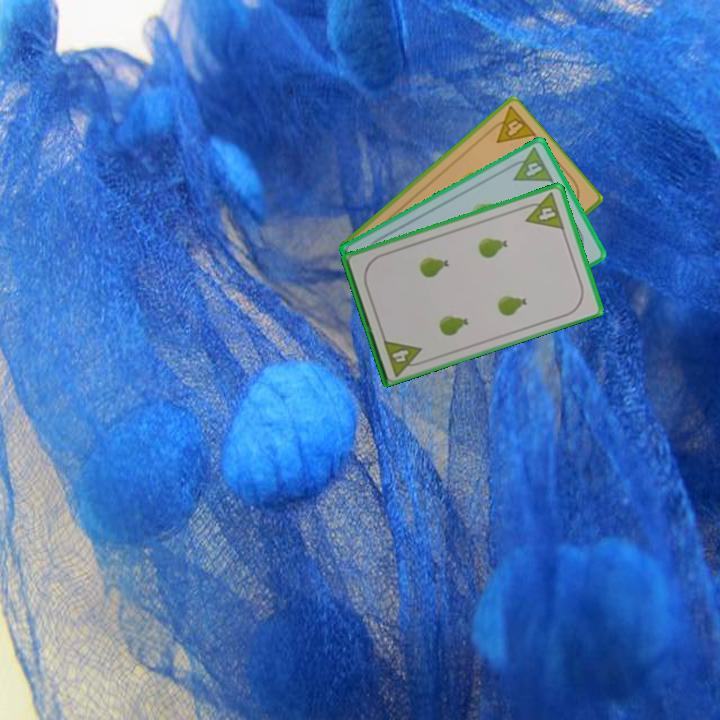4p: (483, 103, 539, 146), (504, 144, 556, 185), (518, 189, 567, 232), (379, 335, 428, 378)
